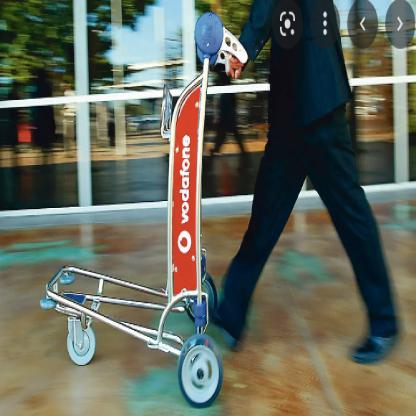airport-trolley: (35, 9, 249, 412)
